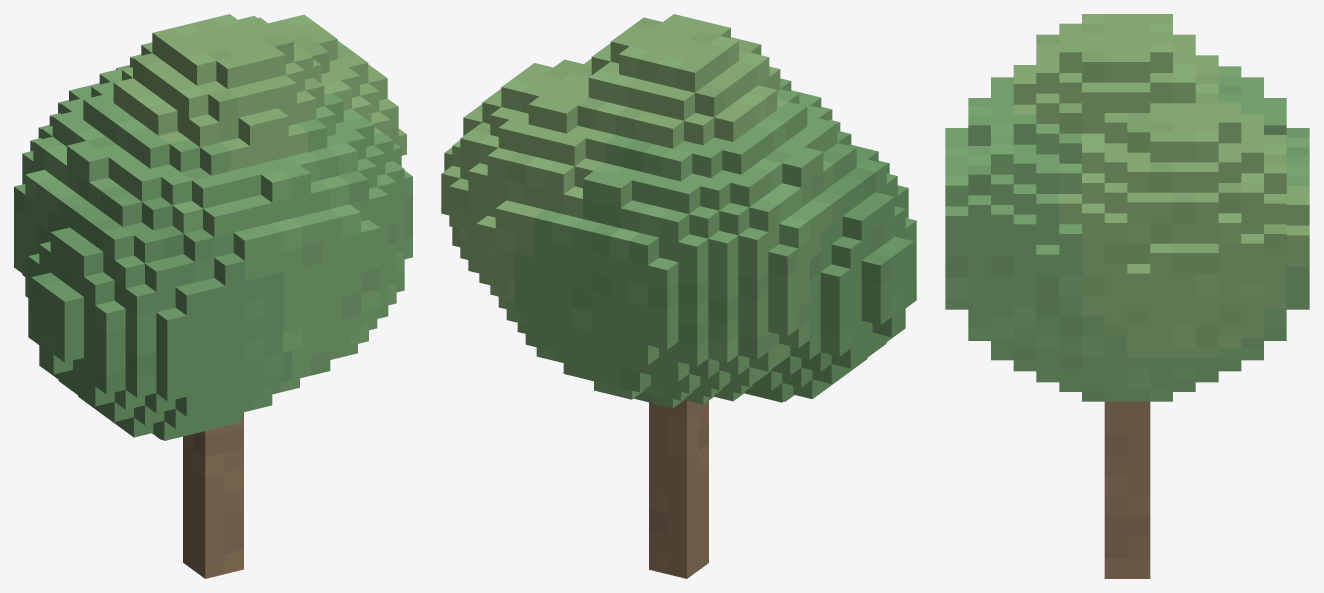
File: grand_arbre_0.glb
The picture shows the model from 3 angles, left to right: view 1: azimuth 30°, elevation 25°; view 2: azimuth 150°, elevation 25°; view 3: azimuth 270°, elevation 25°; orthographic projection. The views are drawn at different scales.
Visible parts, largest first — view 1: geometry_0; view 2: geometry_0; view 3: geometry_0.
Part boxes in pixels (box(x1,y1,x2,y2)): geometry_0: box(14, 14, 412, 578); geometry_0: box(441, 14, 916, 578); geometry_0: box(945, 14, 1309, 578).
Size of the model in its own units: 5 by 6.5 by 4.
